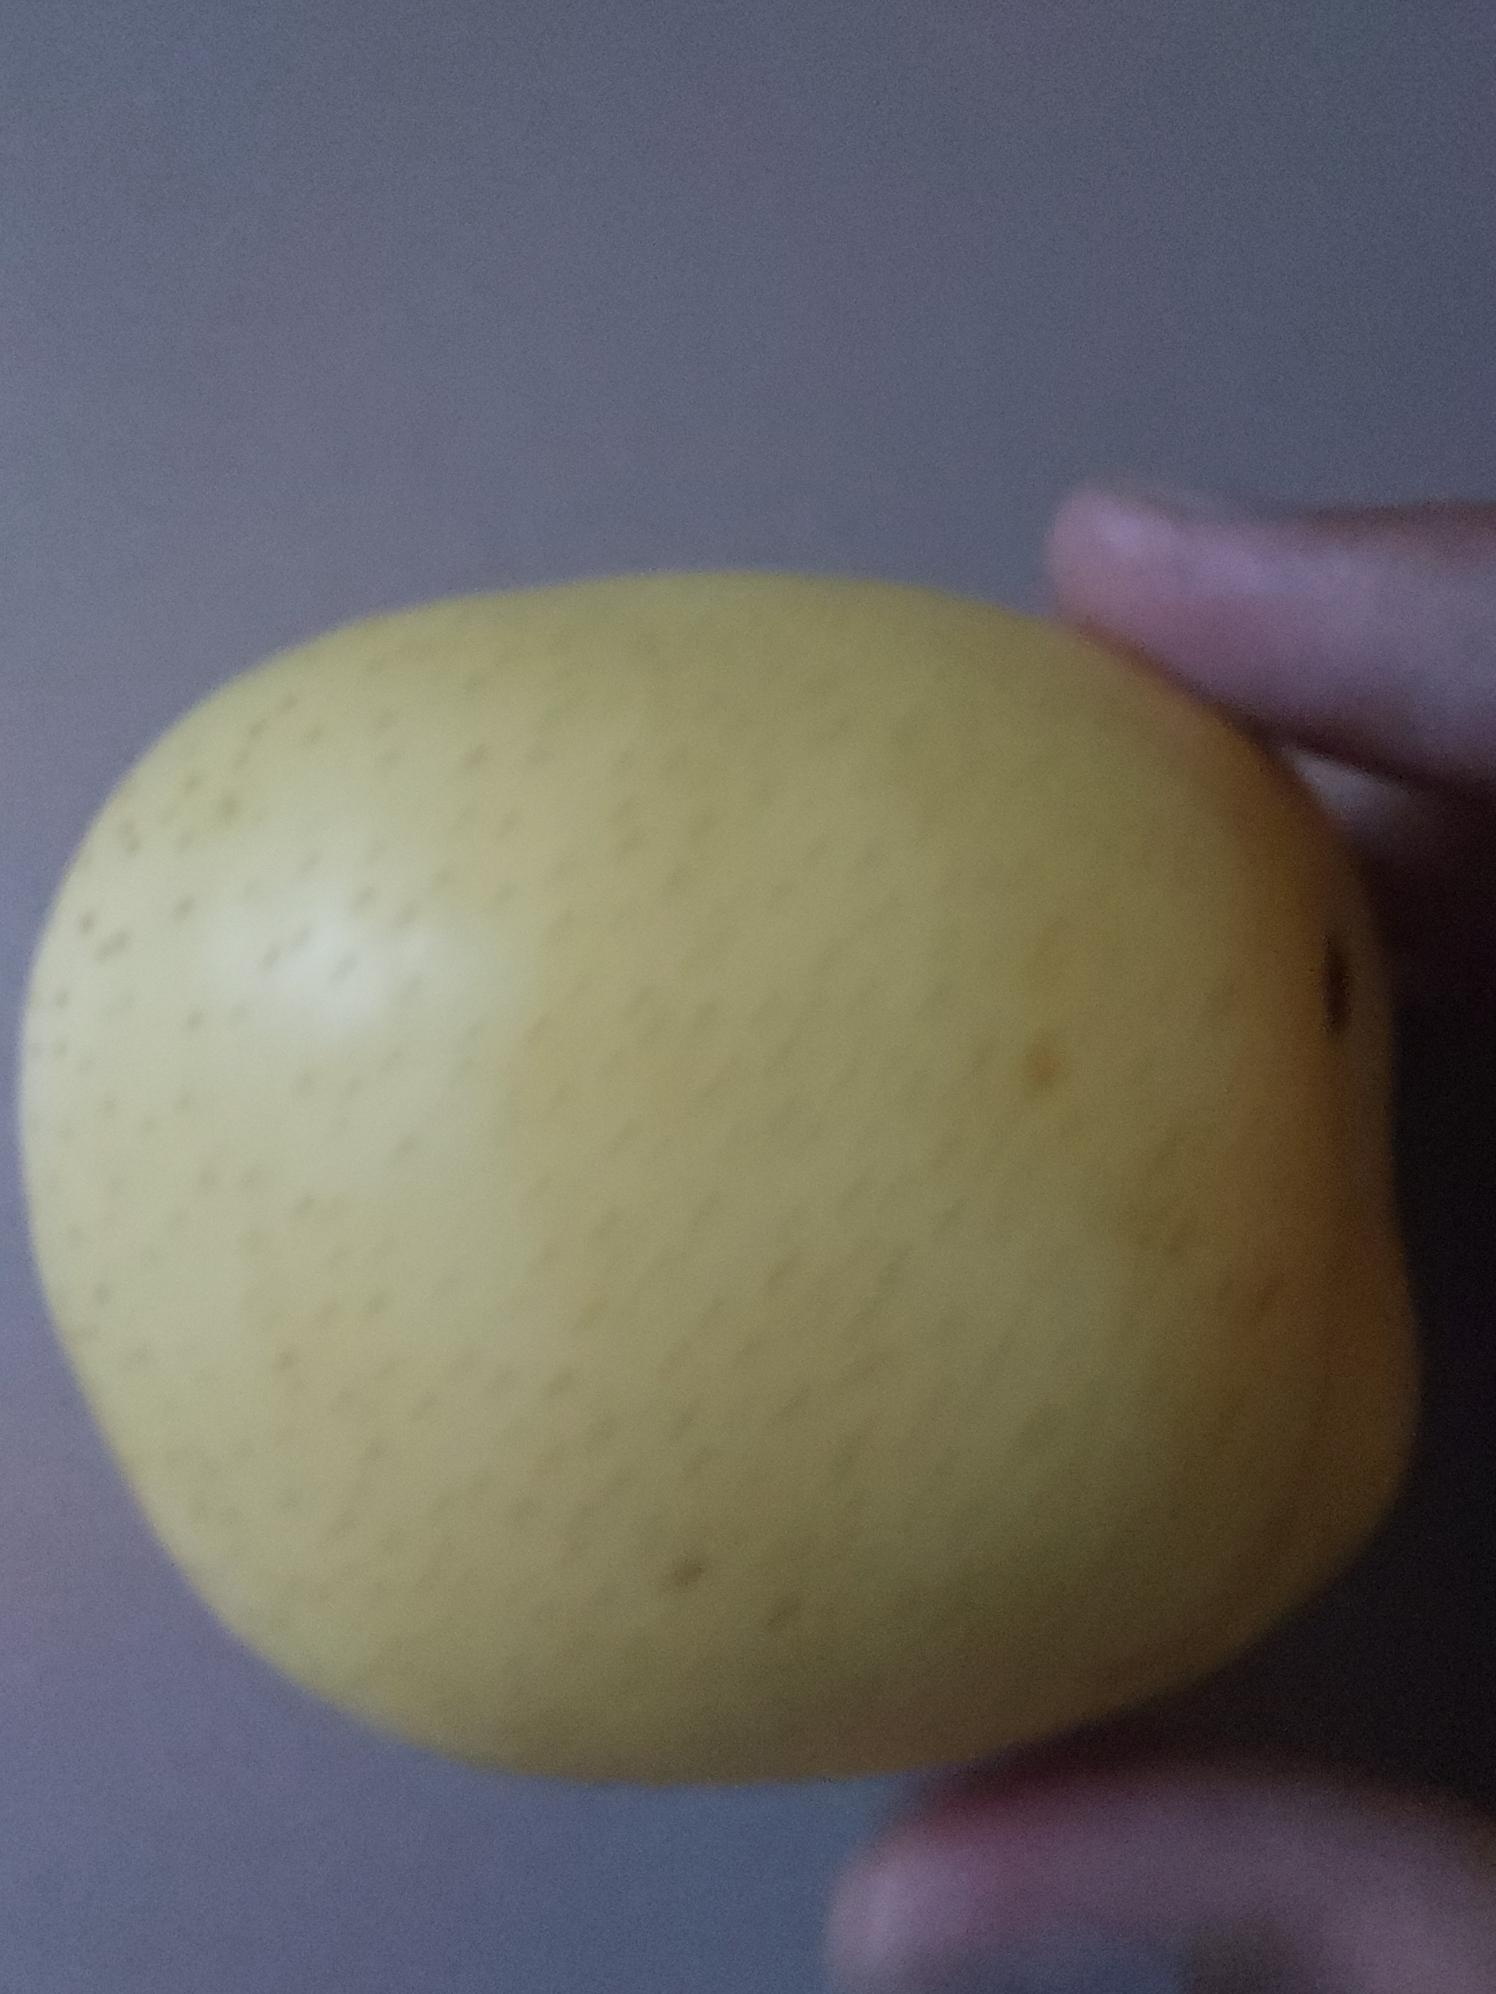Good Pear: (7, 570, 1434, 1790)
